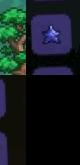tree: (0, 0, 26, 75)
